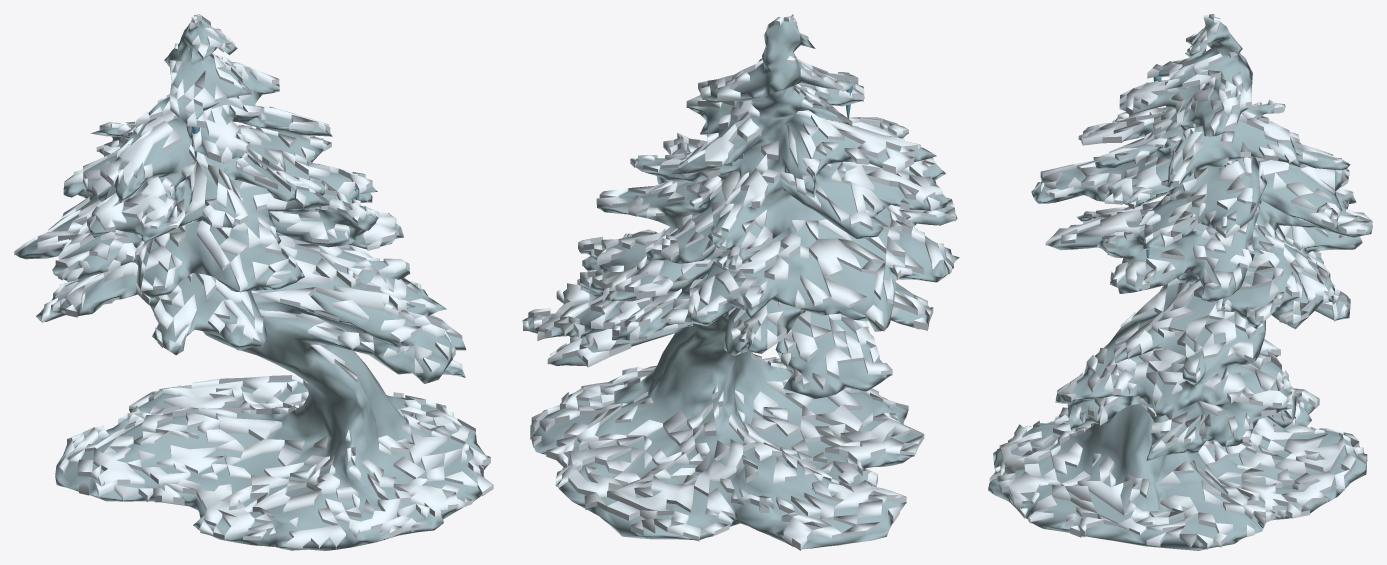
Rendered from ThirdRoom_CanyonPine.fbx.
The picture shows the model from 3 angles, left to right: view 1: azimuth 30°, elevation 25°; view 2: azimuth 150°, elevation 25°; view 3: azimuth 270°, elevation 25°; orthographic projection. The views are drawn at different scales.
Visible parts, largest first — view 1: ThirdRoom_CanyonPine_LOD0; view 2: ThirdRoom_CanyonPine_LOD0; view 3: ThirdRoom_CanyonPine_LOD0.
Boxes of the visible parts, x1,y1,x2,y2 form: ThirdRoom_CanyonPine_LOD0: (14, 14, 493, 550); ThirdRoom_CanyonPine_LOD0: (522, 14, 959, 550); ThirdRoom_CanyonPine_LOD0: (988, 14, 1372, 550).
Size of what is drawn, in the model's own units: 5.38 by 6.05 by 4.88.
